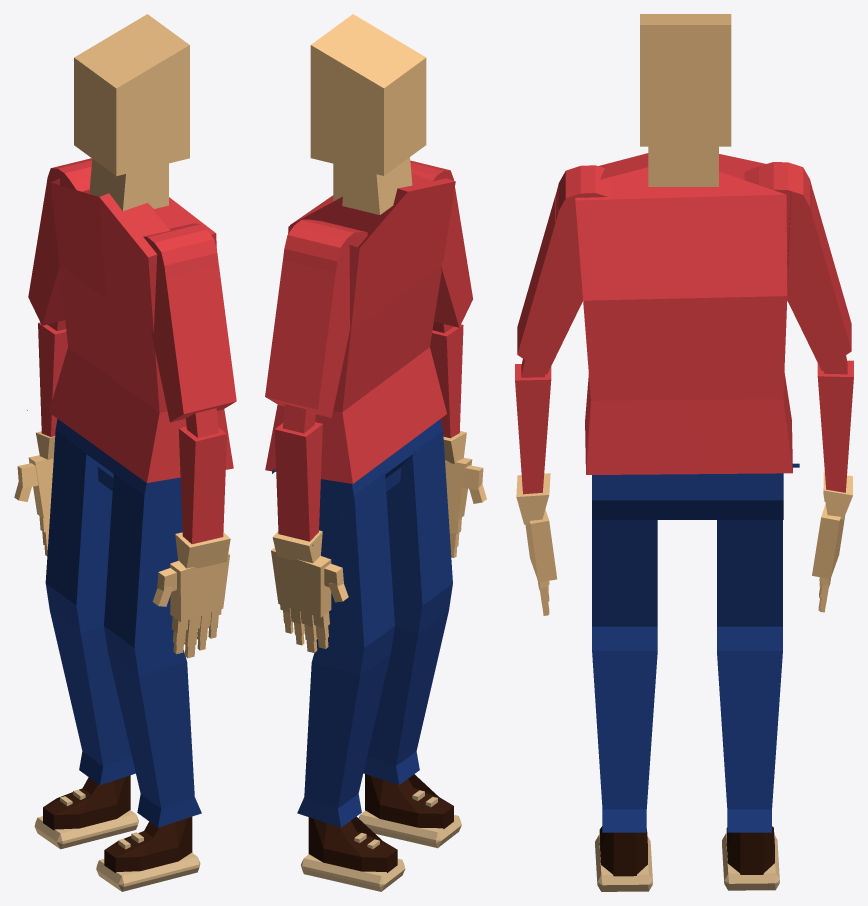
File: Play4.fbx
3 views of the same model, side by side, from view 1: azimuth 30°, elevation 25°; view 2: azimuth 150°, elevation 25°; view 3: azimuth 270°, elevation 25° (orthographic). The views are drawn at different scales.
Visible parts, largest first — view 1: Cube.007; view 2: Cube.007; view 3: Cube.007.
Part boxes in pixels (box(x1,y1,x2,y2)): Cube.007: box(14, 14, 236, 891); Cube.007: box(265, 14, 486, 891); Cube.007: box(515, 14, 853, 891).
Bounding box in the file's own units: 317 × 2184 × 769.
